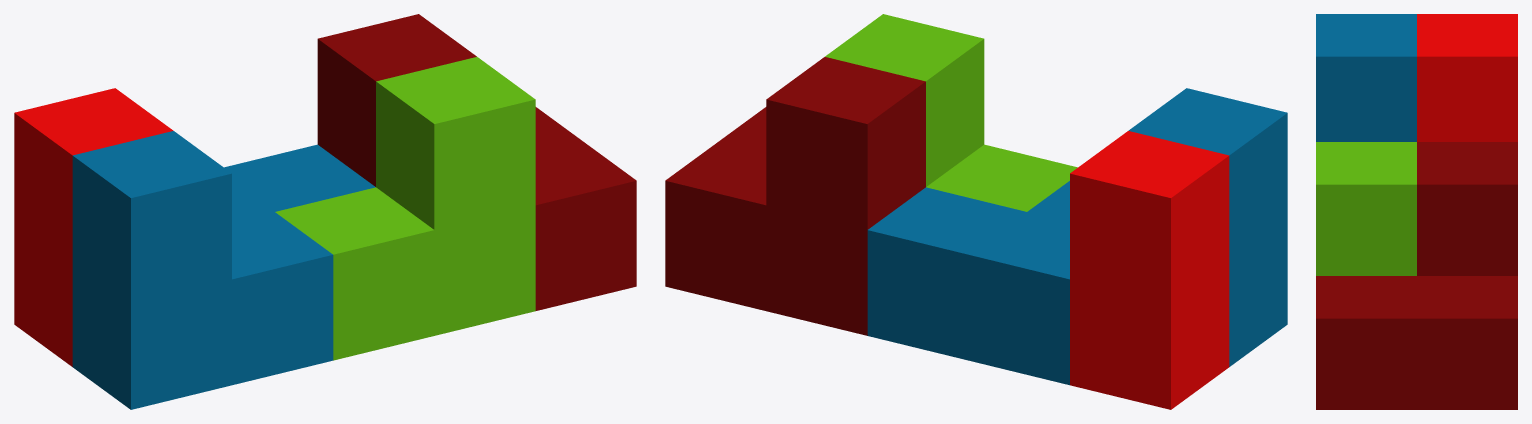
3 renders of one model, left to right at view 1: azimuth 30°, elevation 25°; view 2: azimuth 150°, elevation 25°; view 3: azimuth 270°, elevation 25°, orthographic. The views are drawn at different scales.
Visible parts, largest first — view 1: mergedBlocks(Clone); view 2: mergedBlocks(Clone); view 3: mergedBlocks(Clone).
Part boxes in pixels (box(x1,y1,x2,y2)): mergedBlocks(Clone): box(14, 14, 636, 409); mergedBlocks(Clone): box(665, 14, 1287, 409); mergedBlocks(Clone): box(1316, 14, 1517, 409).
Bounding box in the file's own units: 5 × 2 × 2.
4 materials, 4 textured.
